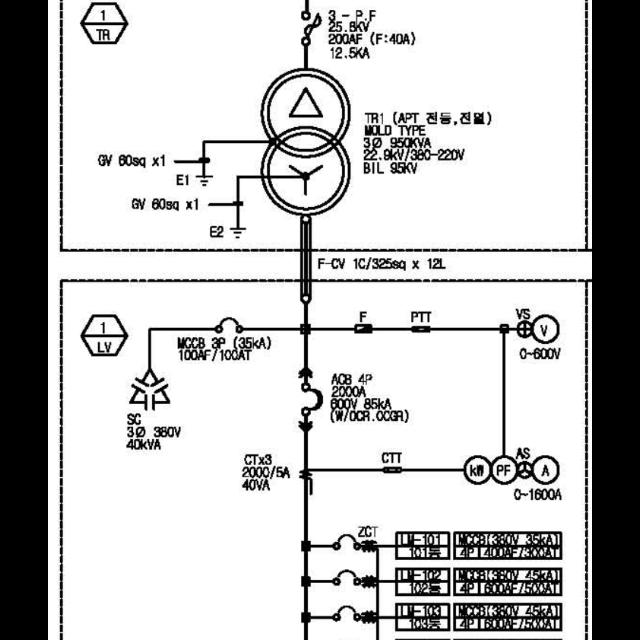A: (534, 454, 560, 486)
ACB: (301, 382, 323, 416)
AS: (519, 462, 533, 478)
CT: (300, 468, 312, 480)
GND: (230, 226, 248, 242), (197, 175, 216, 188)
MCCB: (214, 316, 243, 334), (332, 534, 362, 550), (332, 570, 362, 586), (333, 606, 361, 622)
PF: (300, 10, 322, 44)
PF2: (355, 324, 373, 334)
SC: (128, 369, 172, 411)
V: (532, 316, 560, 344)
VS: (518, 322, 532, 338)
